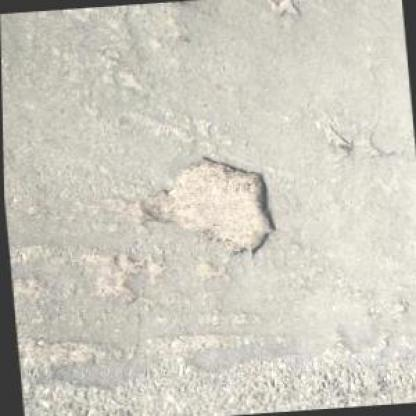pothole: (136, 150, 279, 269), (323, 125, 351, 154)
